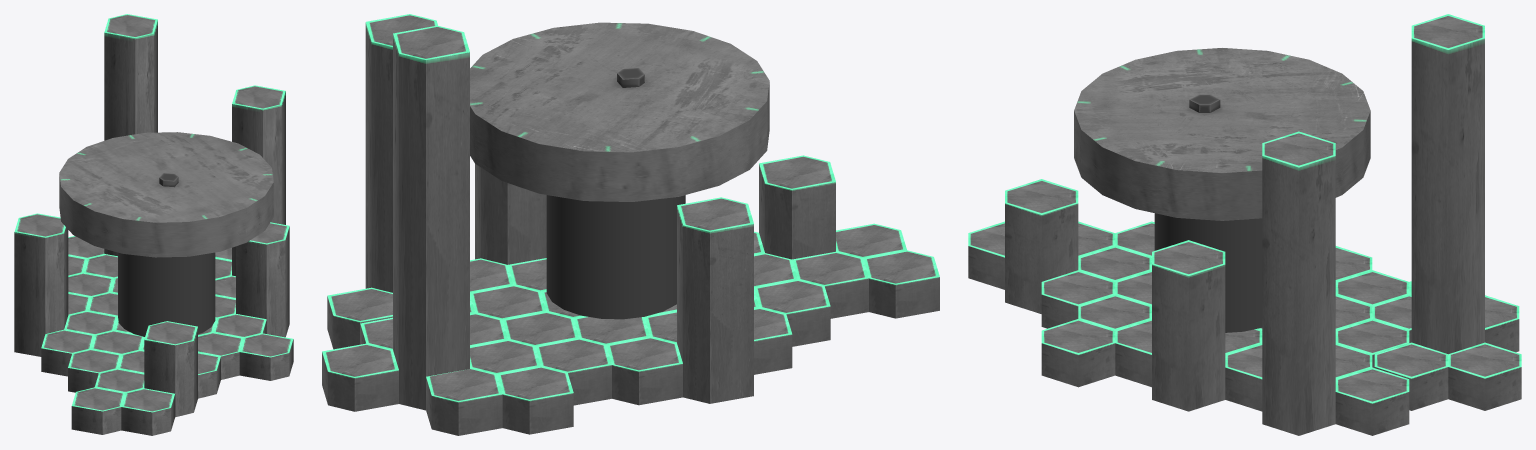
The picture shows the model from 3 angles, left to right: view 1: azimuth 30°, elevation 25°; view 2: azimuth 150°, elevation 25°; view 3: azimuth 270°, elevation 25°; orthographic projection. The views are drawn at different scales.
Visible parts, largest first — view 1: Backgound1; view 2: Backgound1; view 3: Backgound1.
Part boxes in pixels (x1,y1,x2,y2): Backgound1: (14,14,293,435); Backgound1: (322,14,939,435); Backgound1: (968,14,1521,435).
Bounding box in the file's own units: 912 × 693 × 1034.
1 material, 1 textured.
